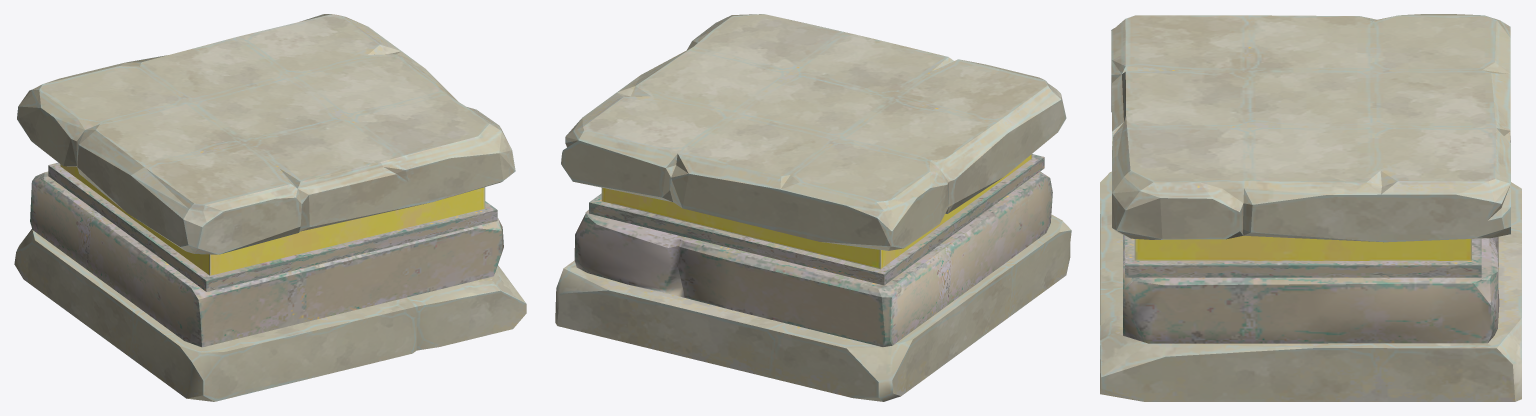
The model's file is Story_0-8_kaipian_base_b01.fbx.
The picture shows the model from 3 angles, left to right: view 1: azimuth 30°, elevation 25°; view 2: azimuth 150°, elevation 25°; view 3: azimuth 270°, elevation 25°; orthographic projection. The views are drawn at different scales.
Visible parts, largest first — view 1: Story_0_8_kaipian_base_b01; view 2: Story_0_8_kaipian_base_b01; view 3: Story_0_8_kaipian_base_b01.
Part boxes in pixels (x1=…): Story_0_8_kaipian_base_b01: x1=14, y1=14, x2=526, y2=401; Story_0_8_kaipian_base_b01: x1=555, y1=14, x2=1071, y2=401; Story_0_8_kaipian_base_b01: x1=1100, y1=14, x2=1521, y2=401.
Bounding box in the file's own units: 121 × 65.63 × 118.
